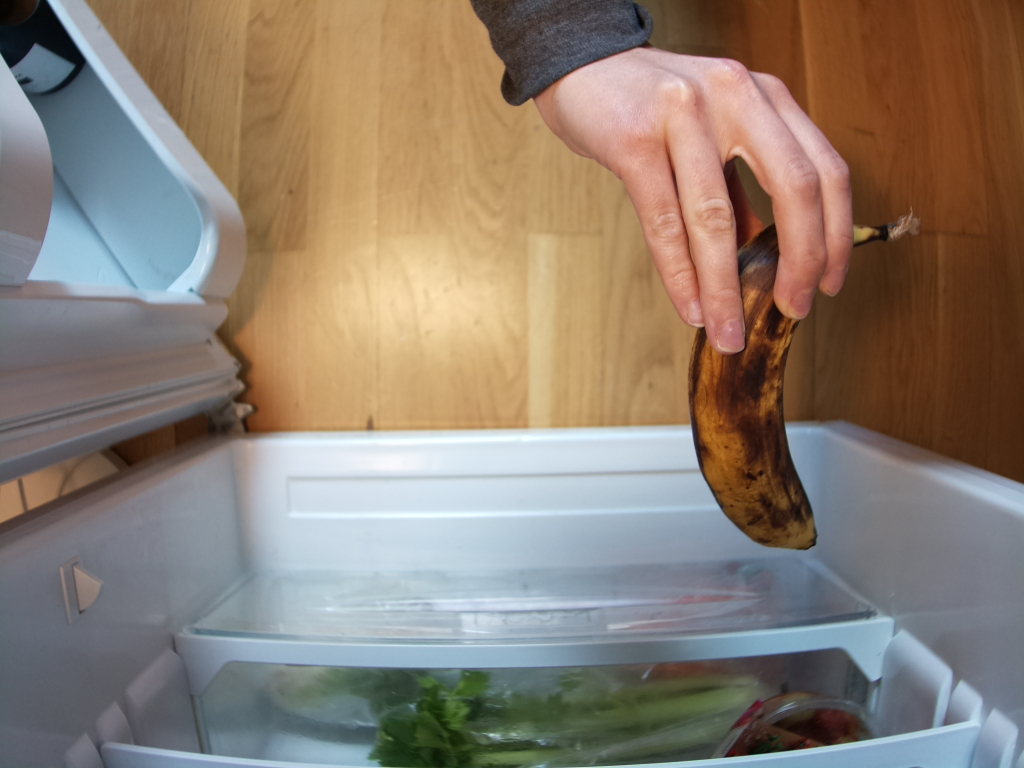banana-overripe: (689, 214, 917, 549)
